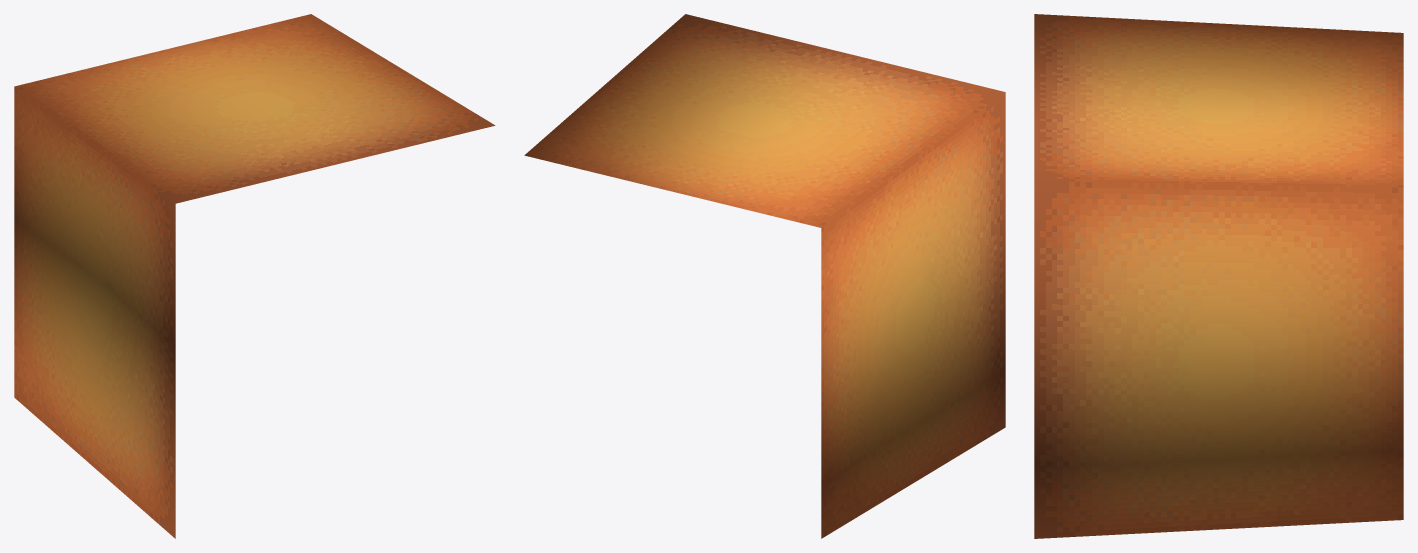
Rendered from part_gaslamp_lantern_mesh-low.glb.
3 views of the same model, side by side, from view 1: azimuth 30°, elevation 25°; view 2: azimuth 150°, elevation 25°; view 3: azimuth 270°, elevation 25° (orthographic). The views are drawn at different scales.
Visible parts, largest first — view 1: gaslamp.part_gaslamp_lantern_mesh-low-Mesh[0]; view 2: gaslamp.part_gaslamp_lantern_mesh-low-Mesh[0]; view 3: gaslamp.part_gaslamp_lantern_mesh-low-Mesh[0].
Part boxes in pixels (x1=…): gaslamp.part_gaslamp_lantern_mesh-low-Mesh[0]: x1=14, y1=14, x2=495, y2=538; gaslamp.part_gaslamp_lantern_mesh-low-Mesh[0]: x1=524, y1=14, x2=1005, y2=538; gaslamp.part_gaslamp_lantern_mesh-low-Mesh[0]: x1=1034, y1=14, x2=1403, y2=538.
Size of the model in its own units: 0.5154 by 0.5154 by 0.482.
1 material, 1 textured.
